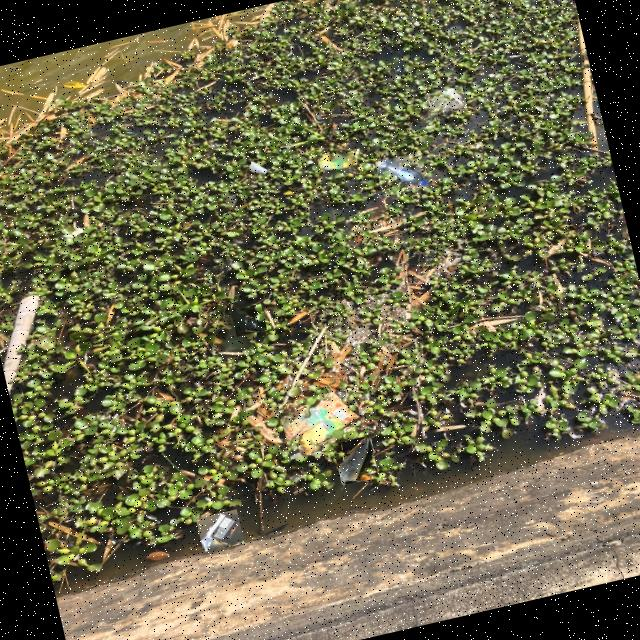Clear plastic bottle: (376, 159, 428, 187)
Other plastic: (285, 391, 360, 456), (201, 513, 239, 551), (318, 148, 362, 171)
Plastic bottle cap: (382, 190, 389, 196)
Plastic film: (341, 437, 370, 484), (234, 308, 266, 333), (428, 89, 466, 109)
Unlabeled litter: (248, 161, 267, 174), (397, 67, 404, 72)
